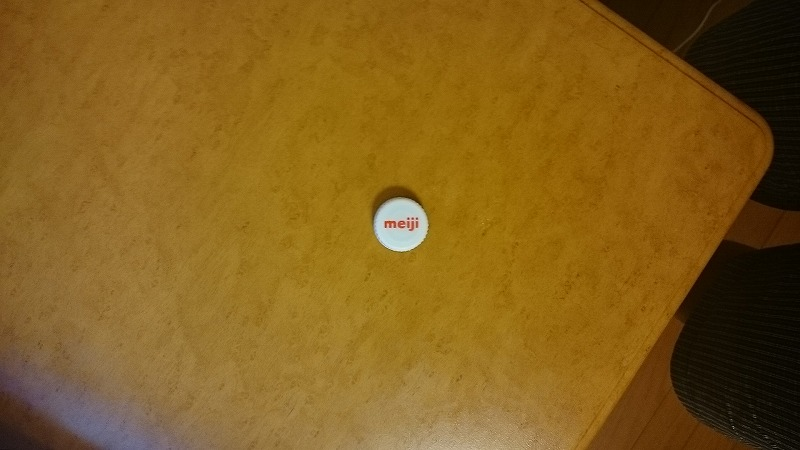B: (369, 185, 437, 260)
